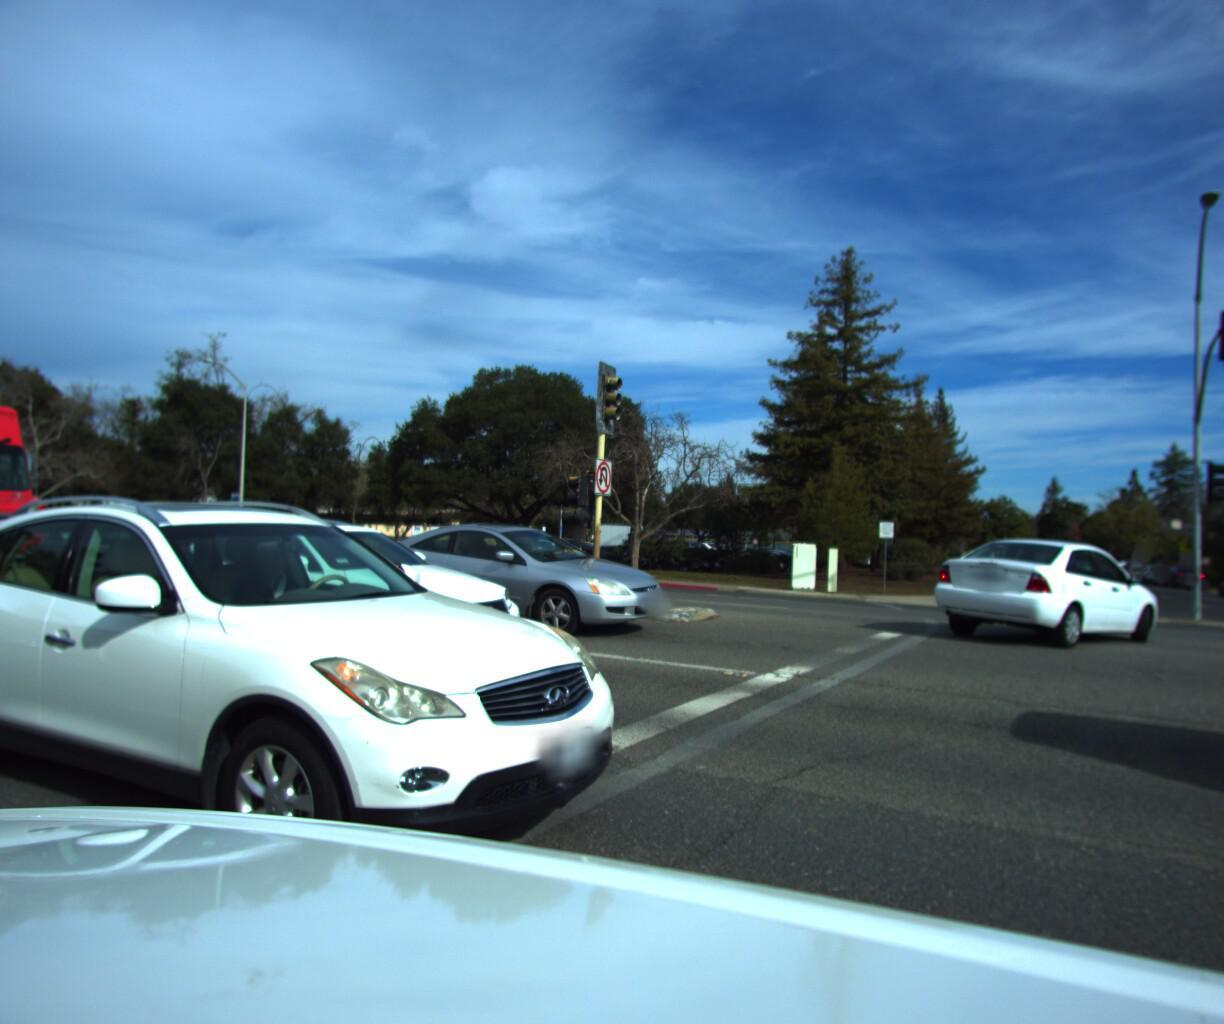car: (132, 509, 551, 696), (356, 506, 684, 638), (925, 531, 1174, 649), (1152, 557, 1205, 580), (1128, 555, 1169, 576), (1209, 565, 1224, 594)
